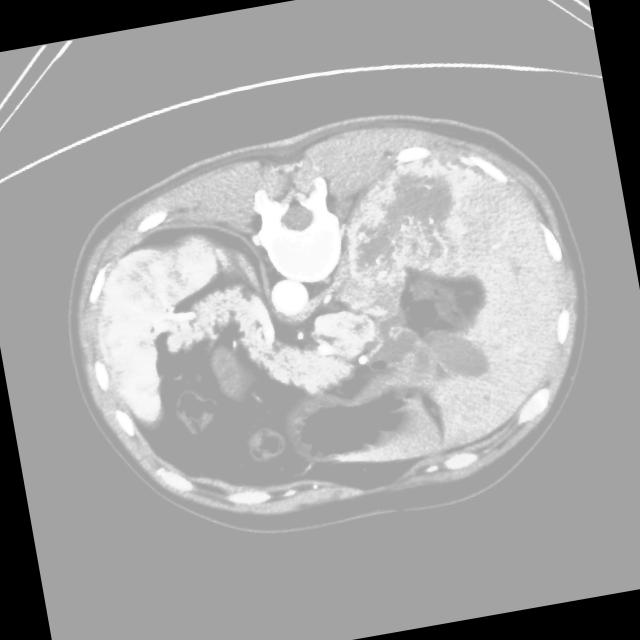TUMOR: (41, 228, 511, 523)
